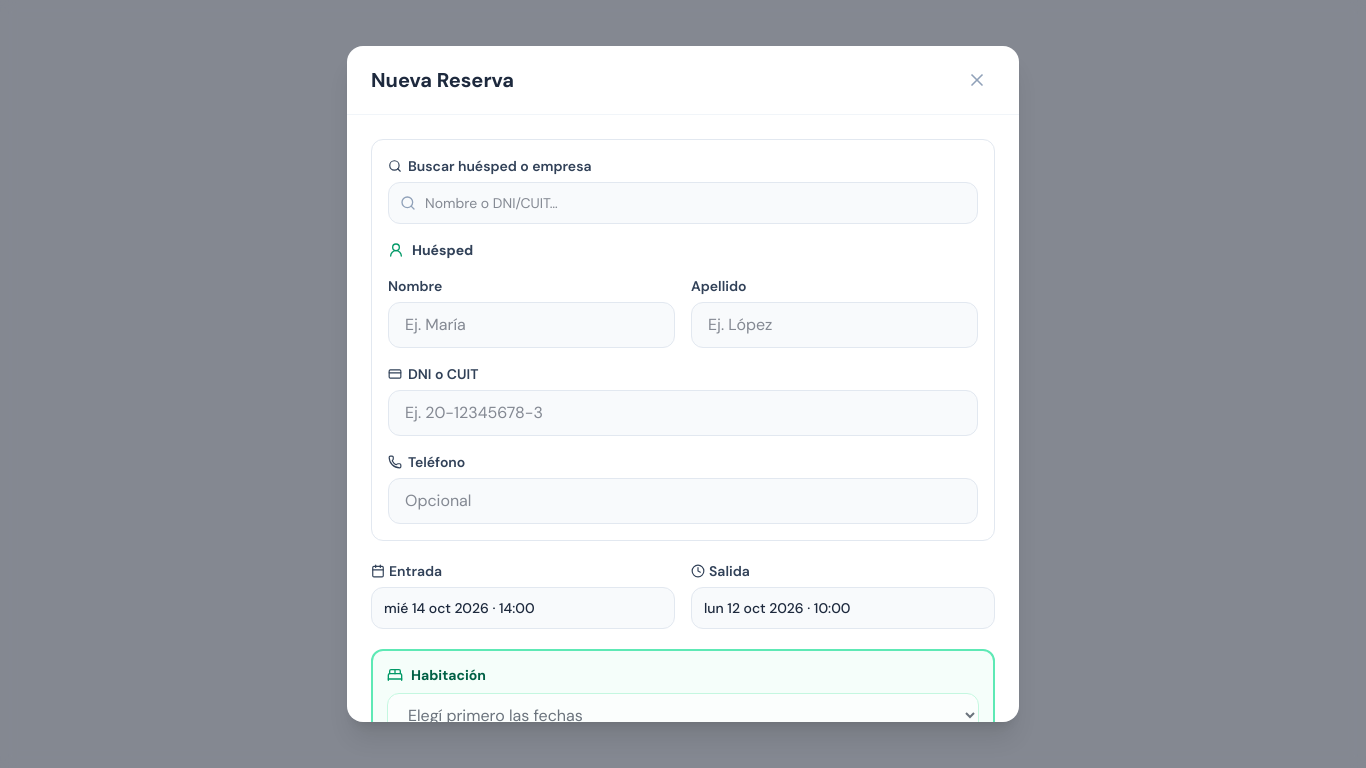
Test: NewReservationModal: el botón dice qué falta › la salida antes de la entrada se avisa con su frase y el foco va a la salida
The image size is (1366, 768).
In the field labelled "Nombre": (532, 325) [388,302,675,348], type "Juan"
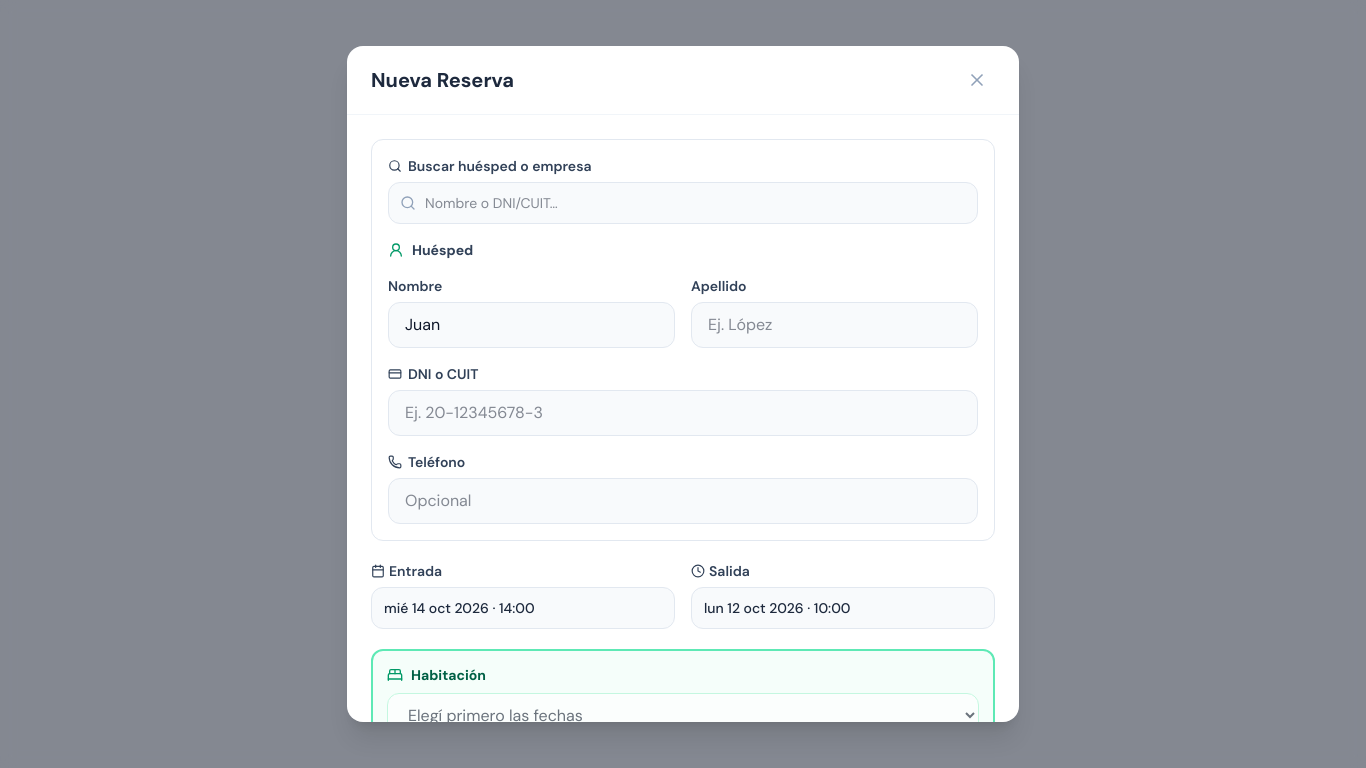
In the field labelled "Apellido": (834, 325) [691,302,978,348], type "Prueba"
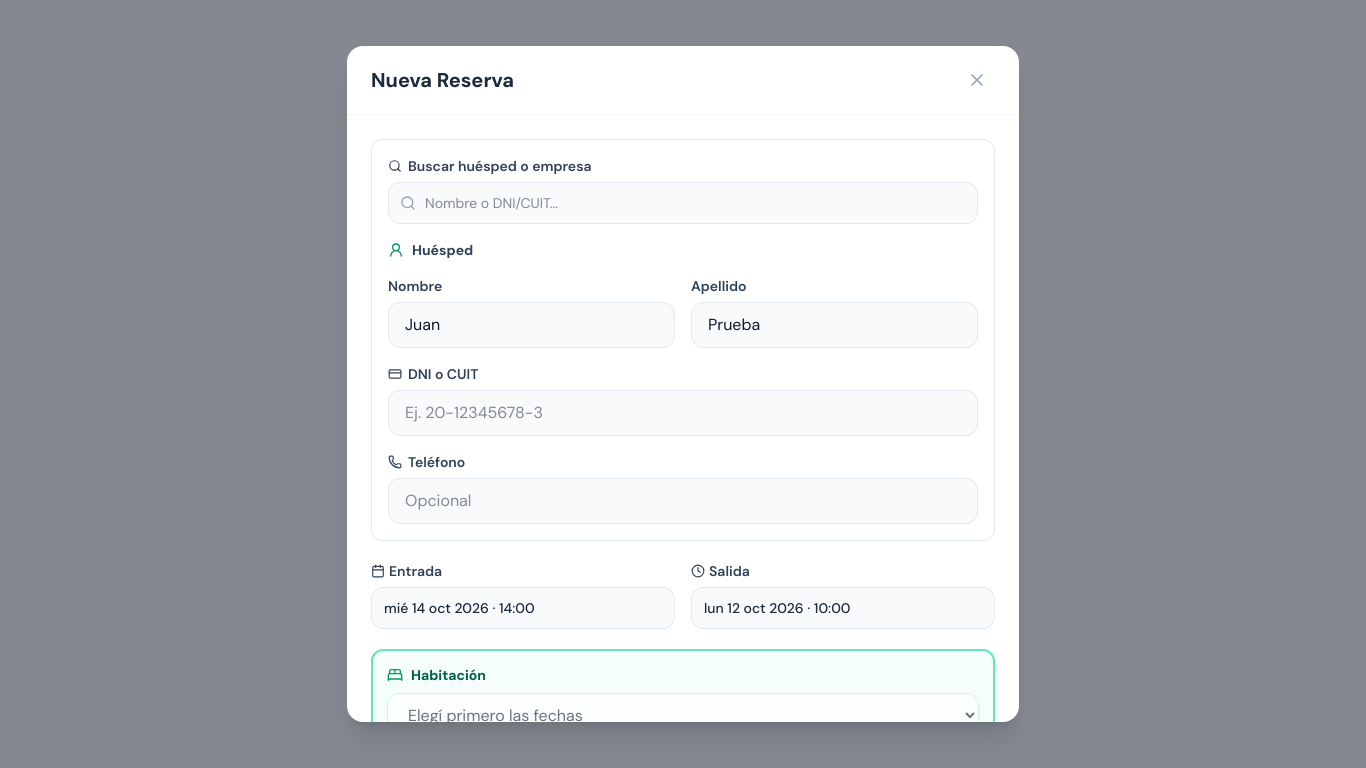
In the field labelled "DNI o CUIT": (683, 413) [388,390,978,436], type "30123456"
(page scrolled)
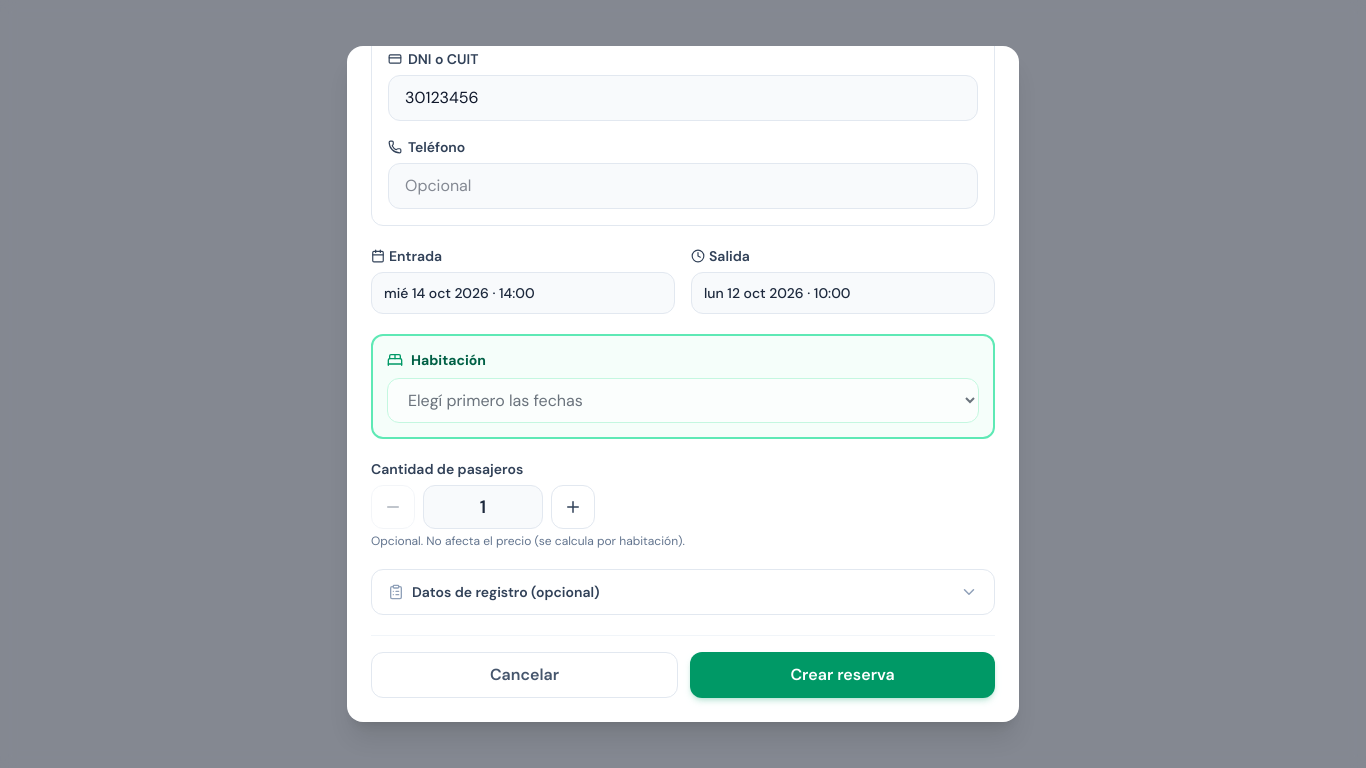
Click the submit button: (842, 675) [690,652,995,698]
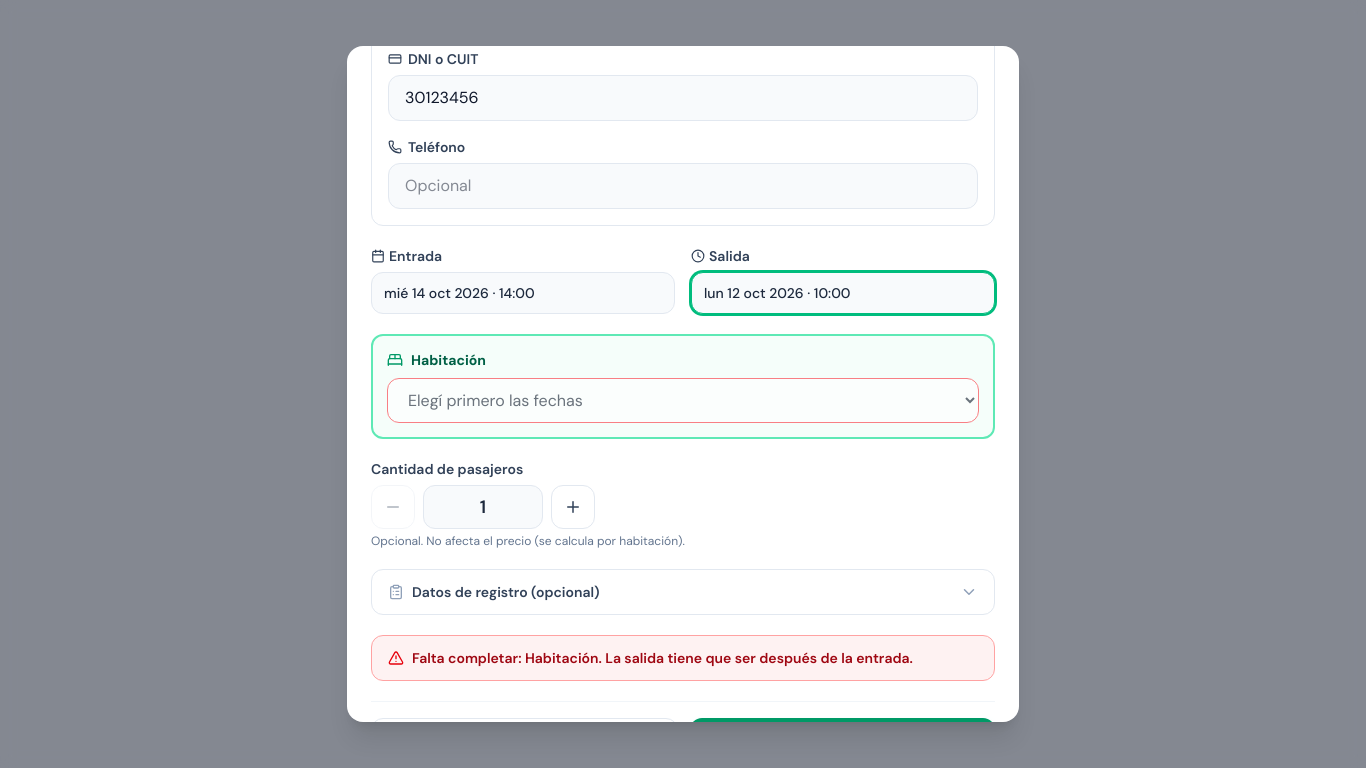
Now the text "Falta completar: Habitación. La salida tiene que ser después de la entrada." is shown, box [412,648,913,668]
